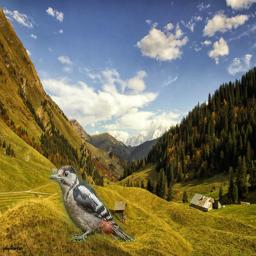Woodpecker: (49, 165, 135, 242)
